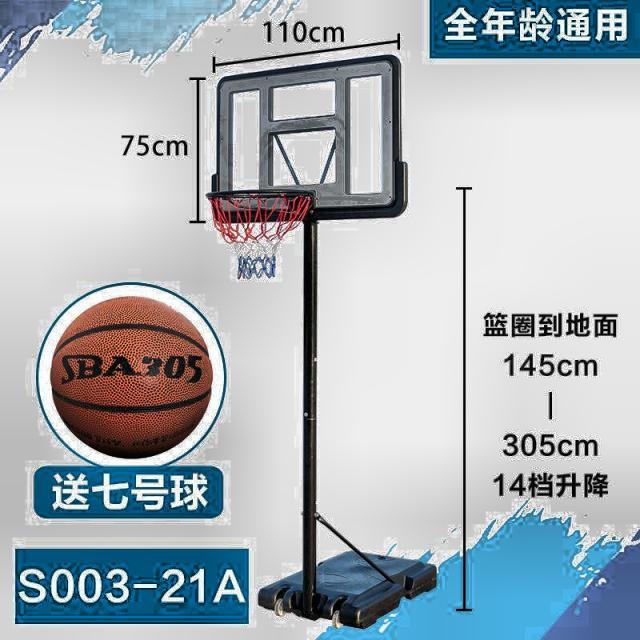board: (52, 295, 215, 459)
rim: (205, 188, 312, 281)
